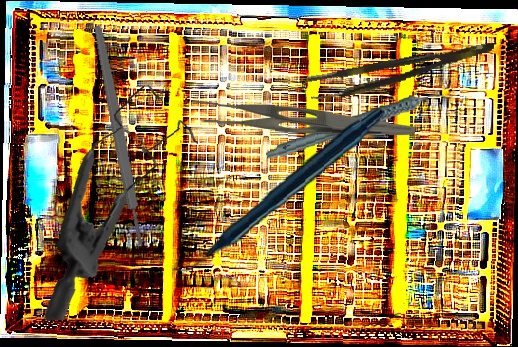Dressing Forceps: (191, 96, 416, 137)
Handpiece: (162, 107, 392, 273), (261, 91, 454, 161)
Scalpel Handle: (90, 23, 148, 250)
Speculum: (28, 82, 210, 321)
Tissue Forceps: (307, 40, 498, 103)
